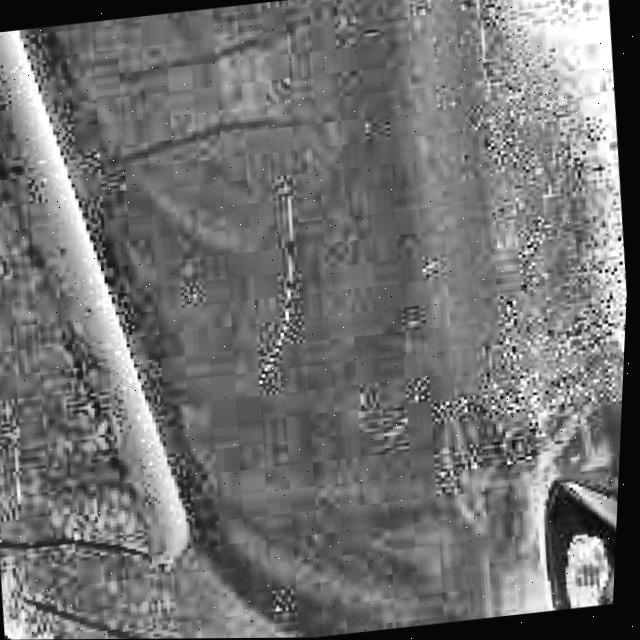door_scratch: (219, 178, 339, 395)
